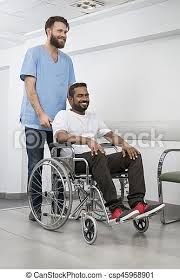wheelchair: (26, 82, 165, 243)
